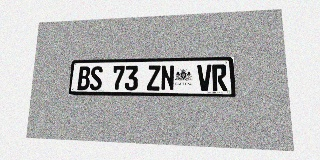3: (124, 65, 138, 90)
7: (111, 66, 125, 90)
B: (77, 66, 90, 90)
N: (161, 65, 174, 91)
R: (212, 64, 227, 91)
S: (89, 66, 103, 90)
V: (197, 64, 212, 91)
Z: (147, 65, 160, 91)
